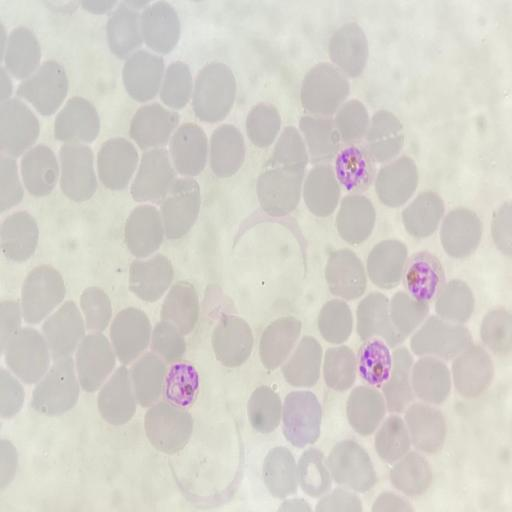Infected: (403, 250, 443, 304), (359, 340, 392, 386), (166, 363, 200, 407), (336, 147, 368, 189)
Uninfected: (19, 264, 67, 329), (19, 61, 70, 118), (191, 63, 238, 122), (157, 180, 201, 241), (57, 139, 100, 201), (40, 301, 85, 360), (32, 363, 81, 417), (327, 438, 376, 492), (5, 327, 49, 386), (131, 147, 176, 204), (258, 317, 303, 374), (108, 306, 152, 364), (143, 401, 193, 452), (254, 164, 303, 216), (411, 315, 466, 361), (280, 389, 323, 447), (96, 137, 139, 193), (18, 143, 61, 199), (299, 64, 349, 112), (128, 102, 178, 150), (158, 282, 200, 339), (121, 51, 167, 103), (279, 334, 323, 388), (127, 254, 174, 304), (323, 248, 368, 300), (138, 2, 182, 55), (122, 204, 165, 258), (55, 95, 102, 144), (1, 98, 40, 157), (169, 122, 210, 178), (96, 368, 137, 424), (374, 155, 418, 207), (211, 315, 254, 368), (327, 23, 369, 77), (378, 354, 417, 412), (400, 403, 446, 452), (105, 6, 148, 58), (400, 191, 445, 240), (365, 239, 409, 289), (365, 109, 406, 162), (4, 27, 44, 81), (1, 209, 41, 263), (75, 334, 115, 388), (439, 206, 482, 256), (344, 385, 387, 435), (355, 292, 397, 343), (451, 347, 492, 399), (408, 356, 453, 403), (208, 123, 247, 177), (372, 413, 414, 463), (302, 164, 341, 217), (387, 290, 429, 339), (335, 193, 376, 243), (129, 352, 168, 404), (243, 100, 283, 150), (262, 447, 302, 497), (158, 60, 196, 112), (297, 113, 340, 158), (390, 451, 433, 495), (199, 283, 240, 329), (245, 385, 284, 433), (294, 448, 333, 496), (269, 125, 308, 172), (435, 278, 475, 323), (78, 285, 114, 334), (322, 344, 359, 391), (150, 319, 189, 363), (316, 299, 354, 344), (339, 97, 371, 145), (479, 307, 510, 352), (0, 369, 25, 418)
